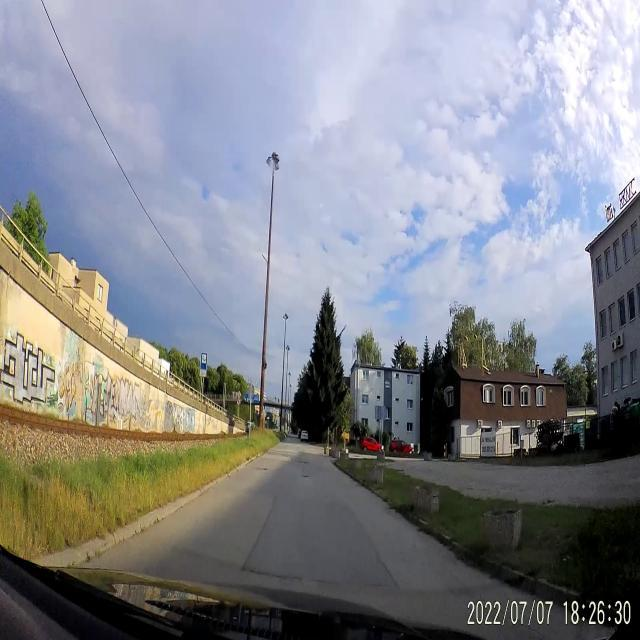Pothole: (248, 464, 270, 476), (298, 472, 312, 484), (295, 459, 312, 466)
